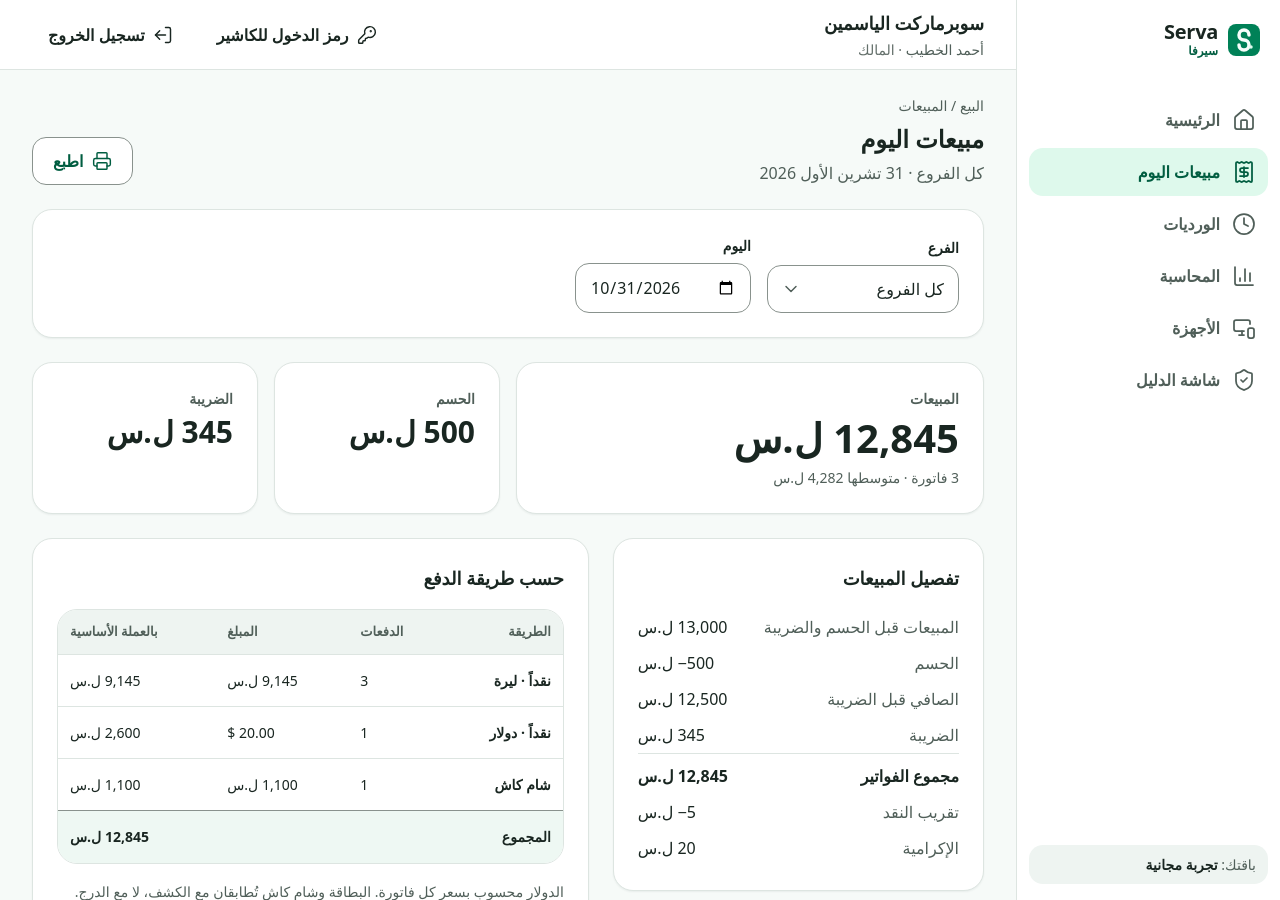
Test: «مبيعات اليوم» › asks again for the branch and the day picked
The width and height of the screenshot is (1280, 900).
Expected: the text "المبيعات قبل الحسم والضريبة" is shown, x1=764 y1=615 x2=959 y2=639
Select "دوار النعيم" in the dropdown labelled "الفرع" at [863, 289], box x1=767 y1=265 x2=959 y2=313
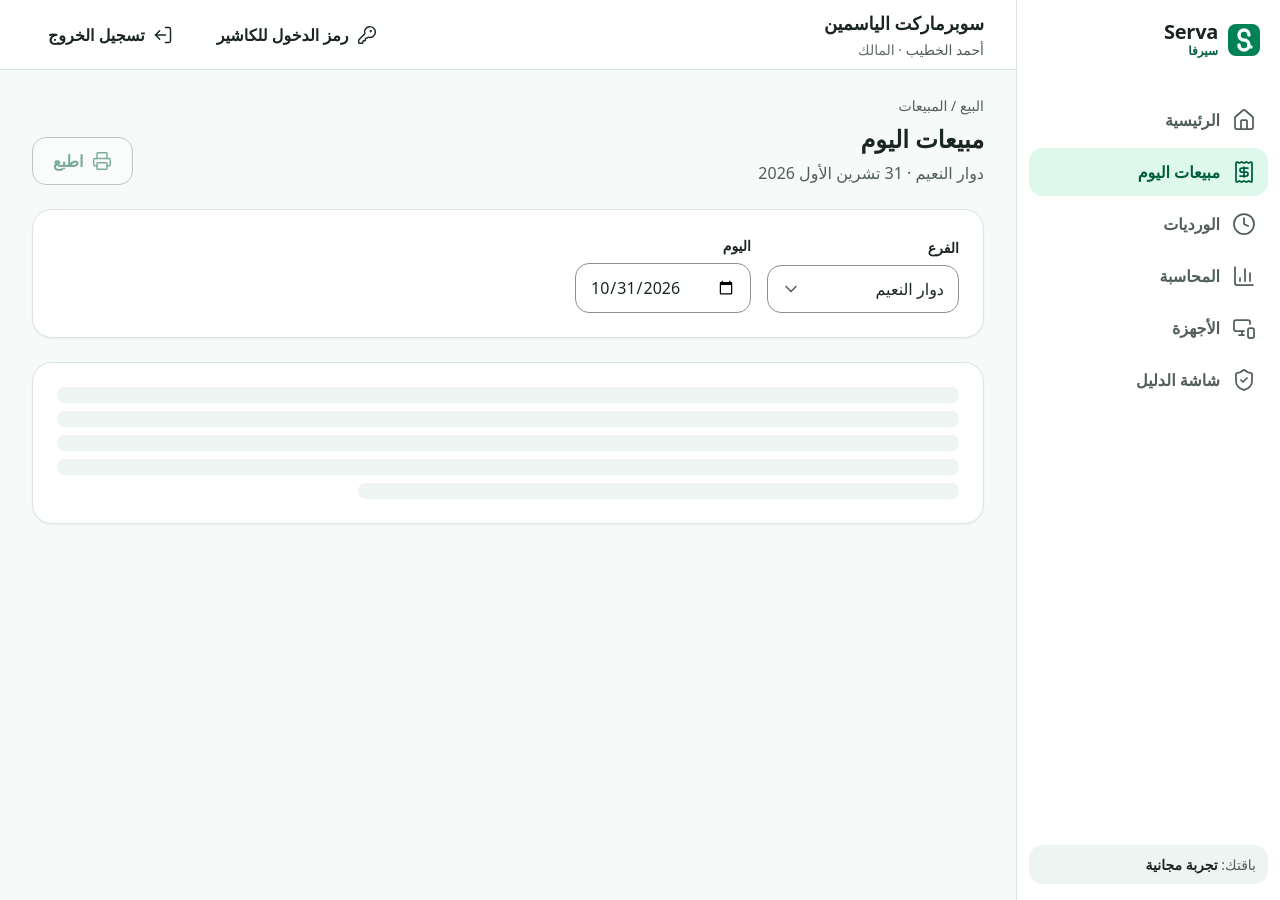
Expected: the text "دوار النعيم · 31 تشرين الأول 2026" is shown, x1=758 y1=161 x2=984 y2=185
Select "كل الفروع" in the dropdown labelled "الفرع" at [863, 289], box x1=767 y1=265 x2=959 y2=313
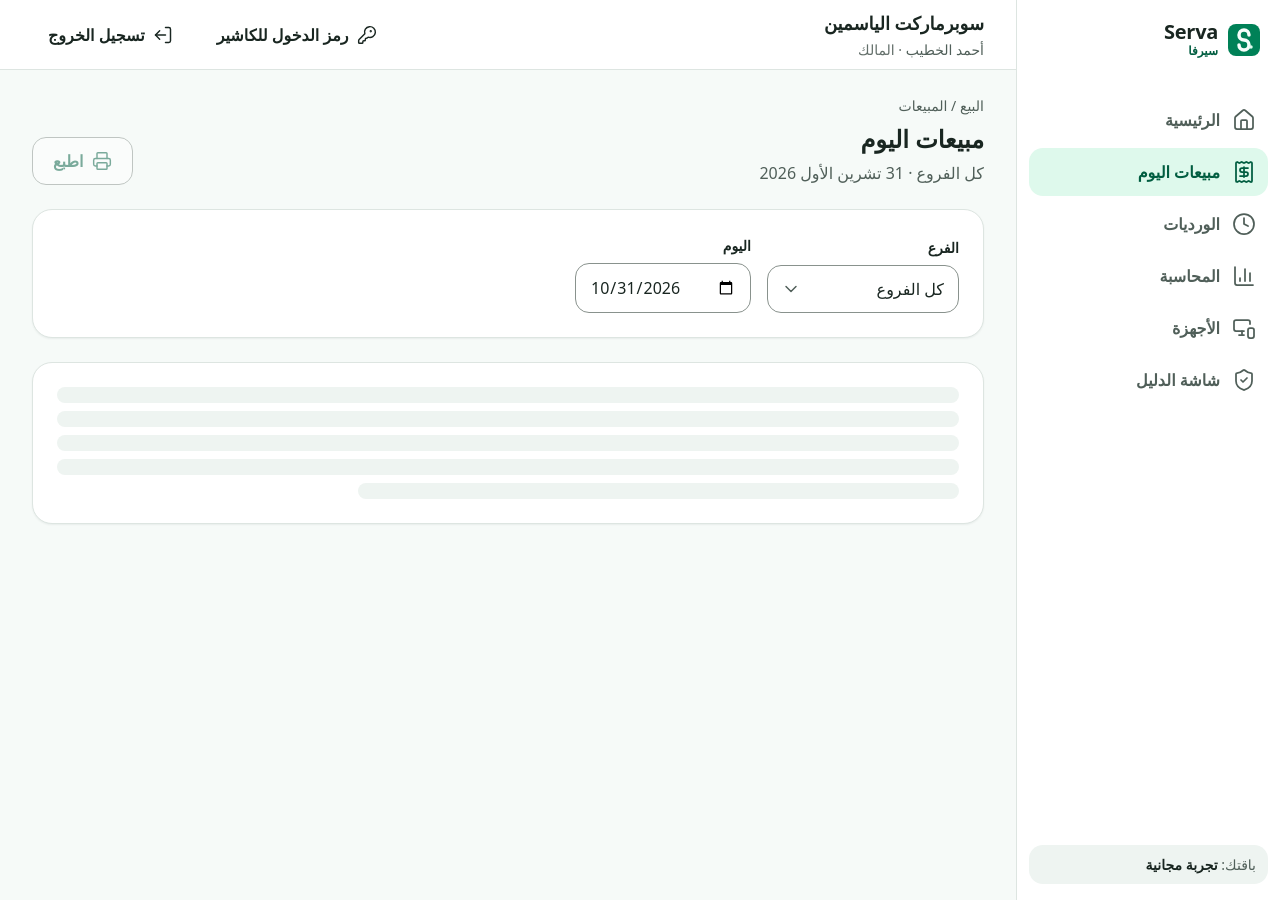
Type "2026-10-30" into the date field labelled "اليوم" at [663, 288], box x1=576 y1=264 x2=750 y2=312
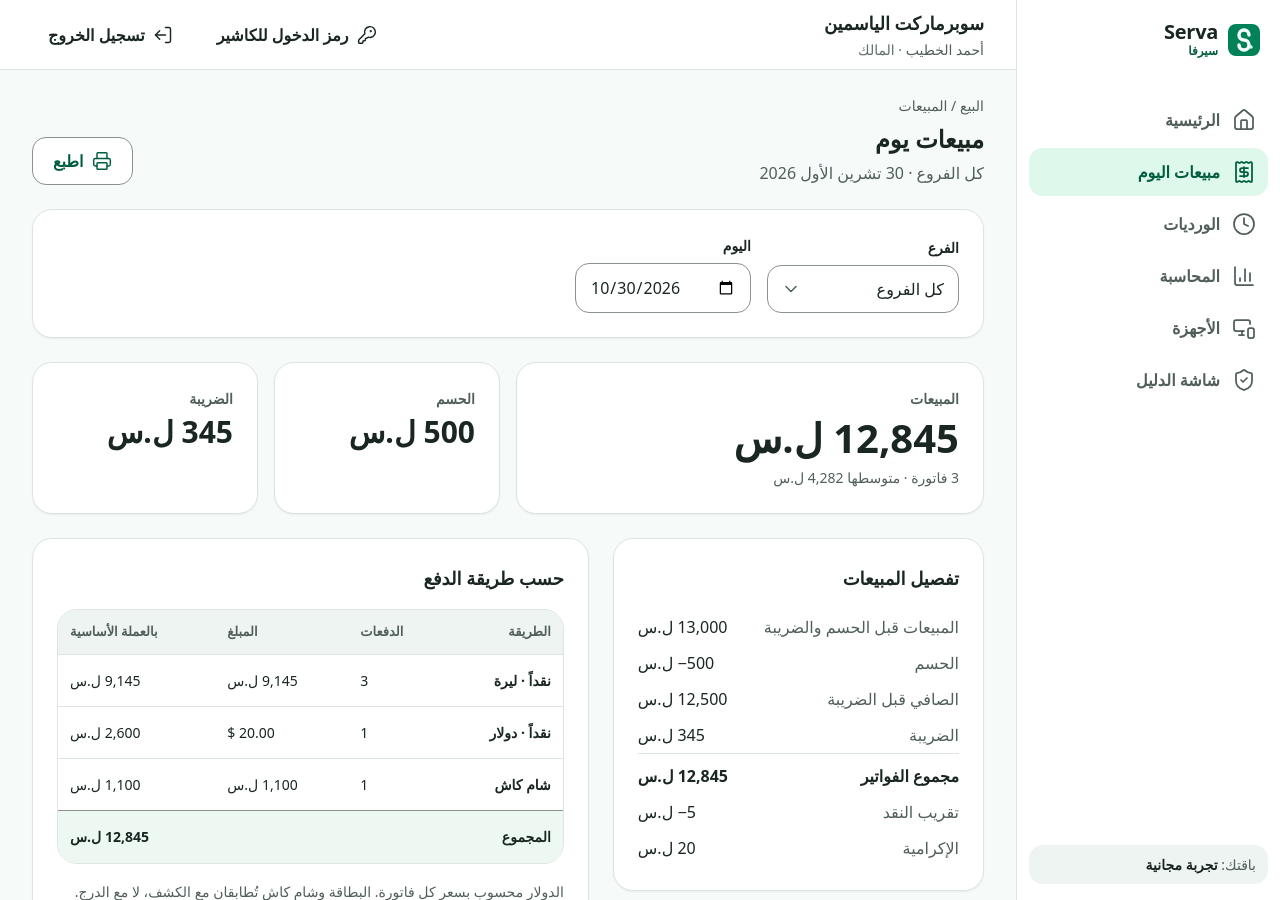
Expected: the heading "مبيعات يوم" is shown, x1=875 y1=122 x2=984 y2=155
